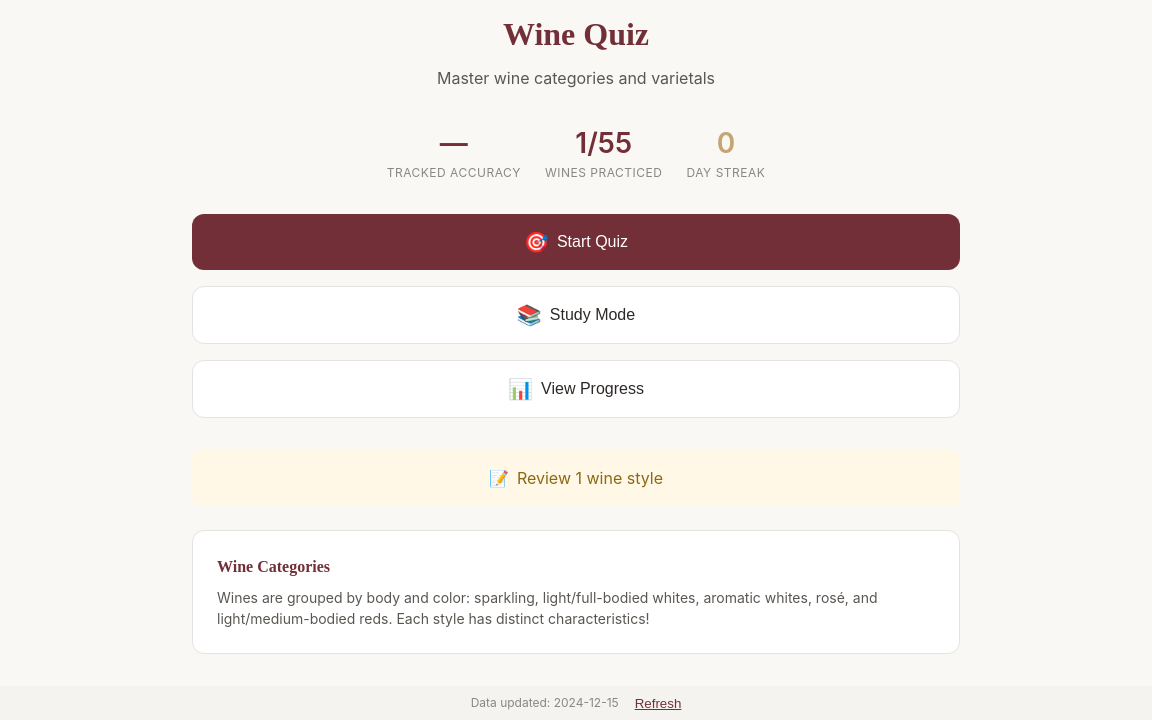
Test: App quiz navigation › runs the exact due wine through review and records one atomic learning event
(page scrolled)
Click the button "📝 Review 1 wine style" at (576, 478), box left=192, top=450, right=960, bottom=506
(page scrolled)
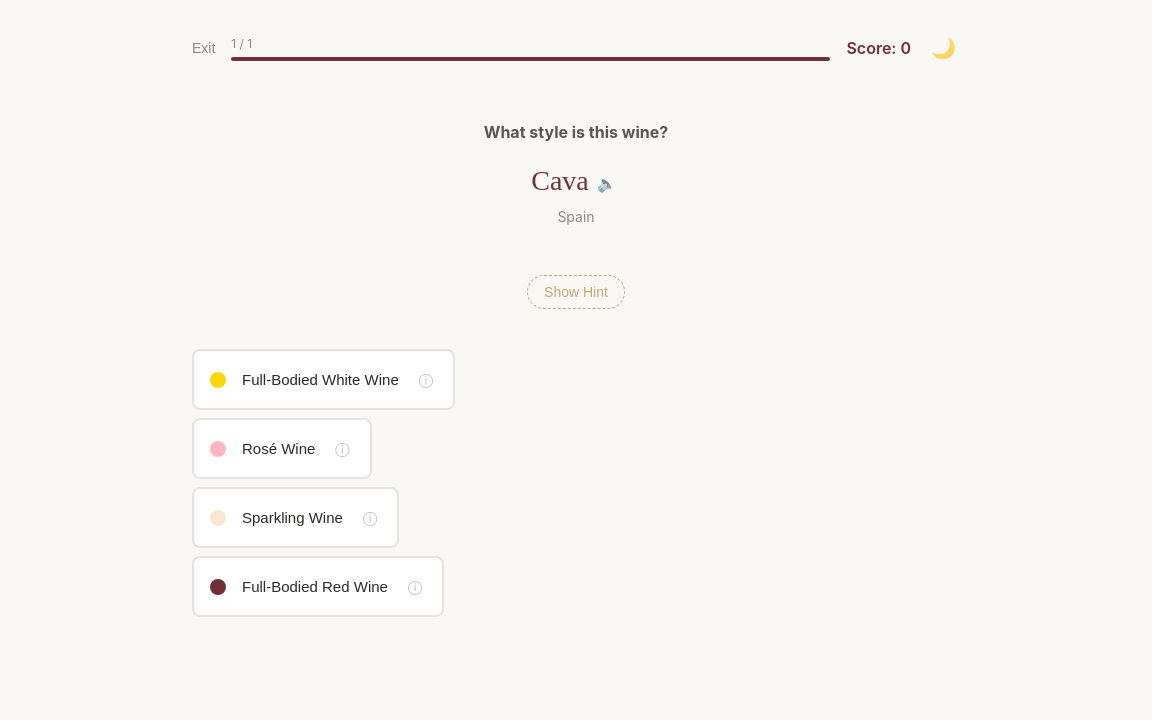
Check: the heading "What style is this wine?" is shown, box left=484, top=122, right=668, bottom=142
Check: the text "Cava" is shown, box left=531, top=165, right=589, bottom=196
Click the button "Sparkling Wine ⓘ" at (296, 518), box left=192, top=487, right=399, bottom=548
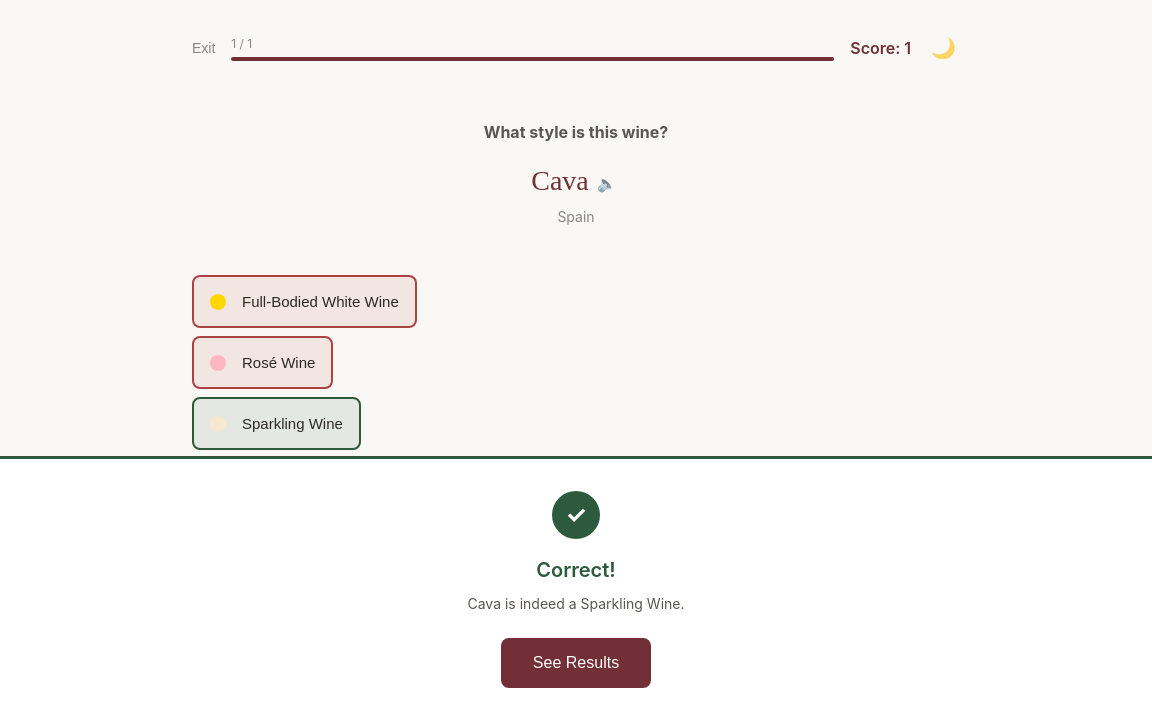
Click the button "See Results" at (576, 663), box left=501, top=638, right=651, bottom=688
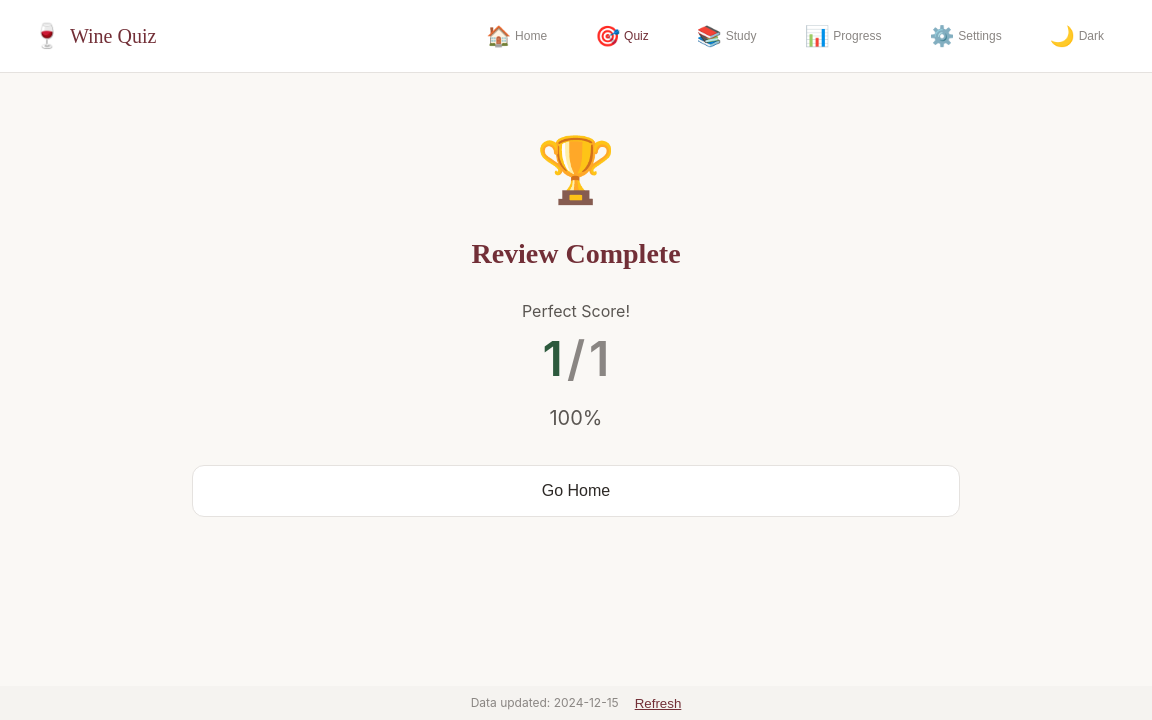
Check: the heading "Review Complete" is shown, box left=471, top=238, right=681, bottom=269
